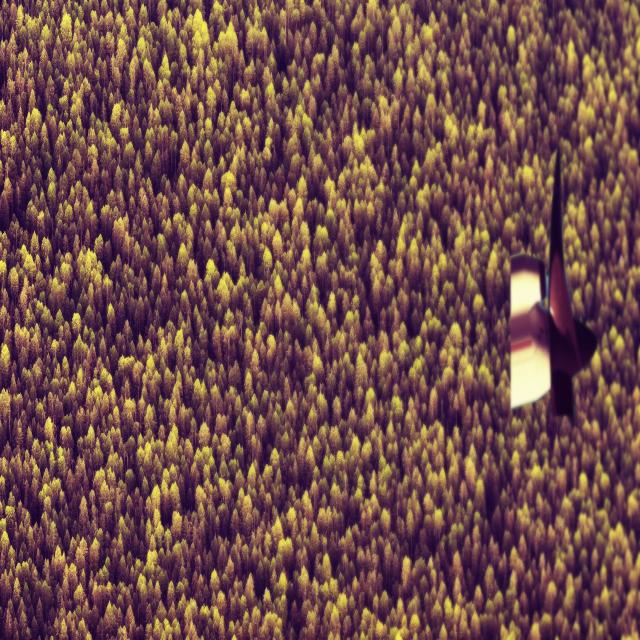airplane: (508, 146, 598, 422)
